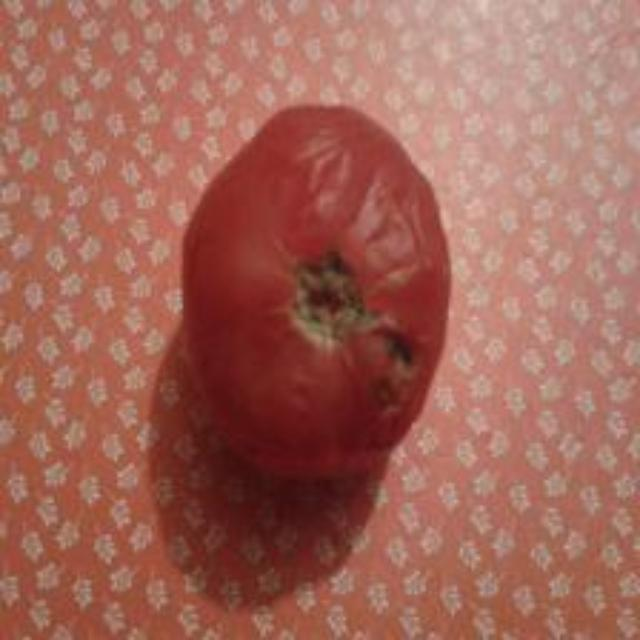defect: (183, 100, 454, 479)
